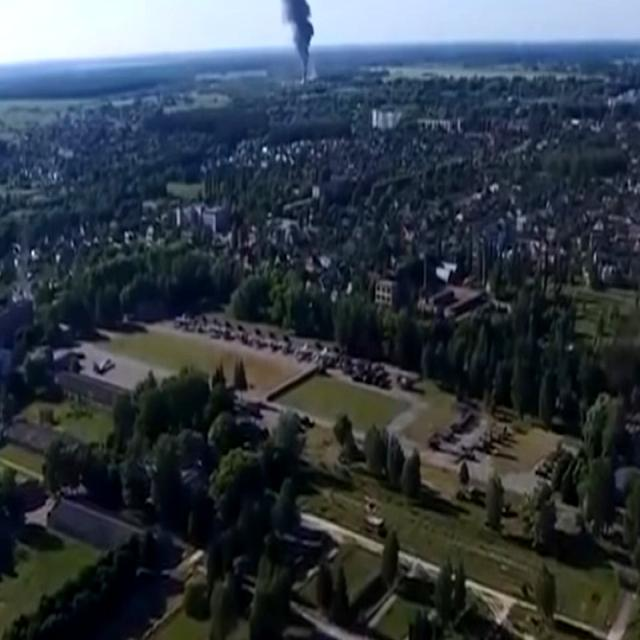smoke: (251, 0, 330, 87)
